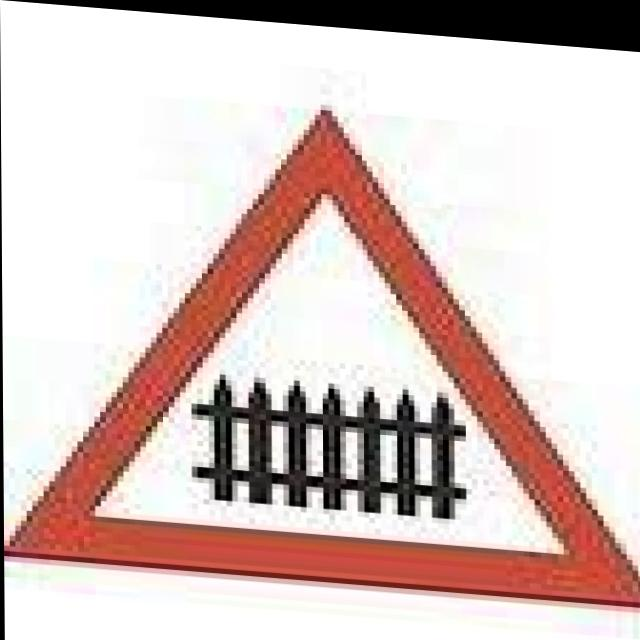GUARDED_LEVEL_CROSSING: (0, 79, 640, 602)
